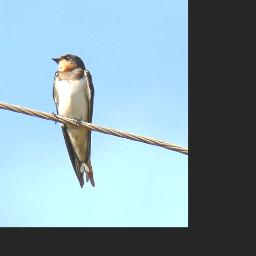Swallow: (20, 48, 127, 192)
